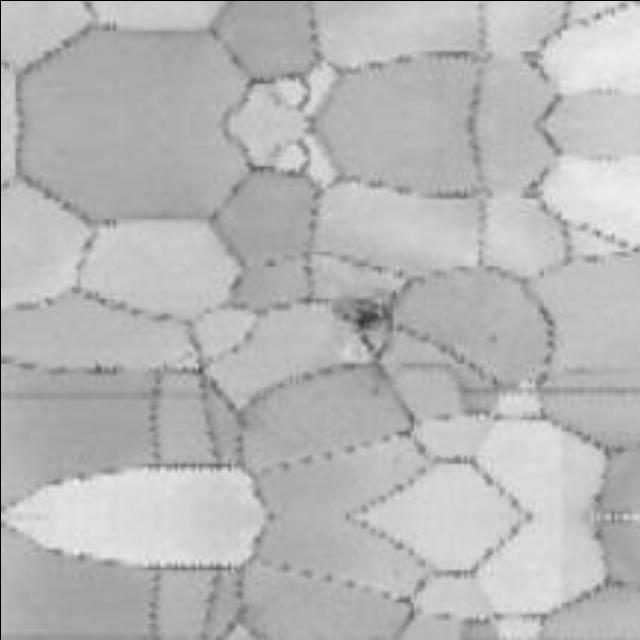good_void: (331, 288, 406, 342)
